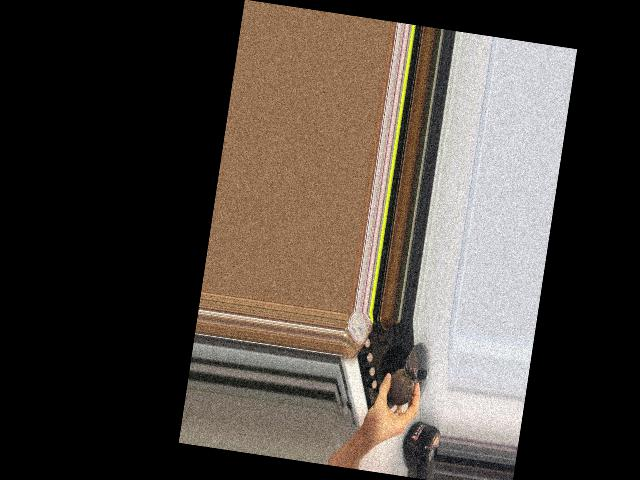beet: (386, 363, 417, 409)
